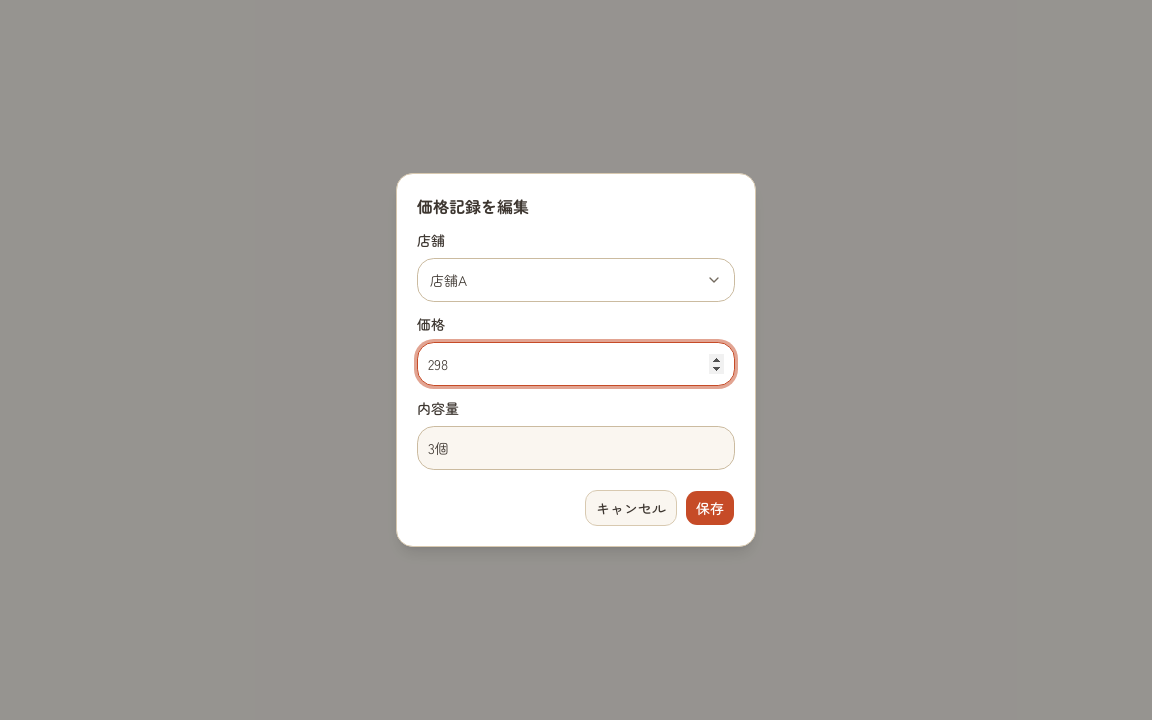
Scenario: PriceRecordEditDialog › PRED-06: StoreNotFoundError では店舗未検出メッセージを表示し、店舗一覧を再取得する
Check: the text "店舗A" is shown, box x1=430 y1=270 x2=467 y2=290
Click the button "保存" at (710, 508), box x1=685 y1=490 x2=735 y2=526
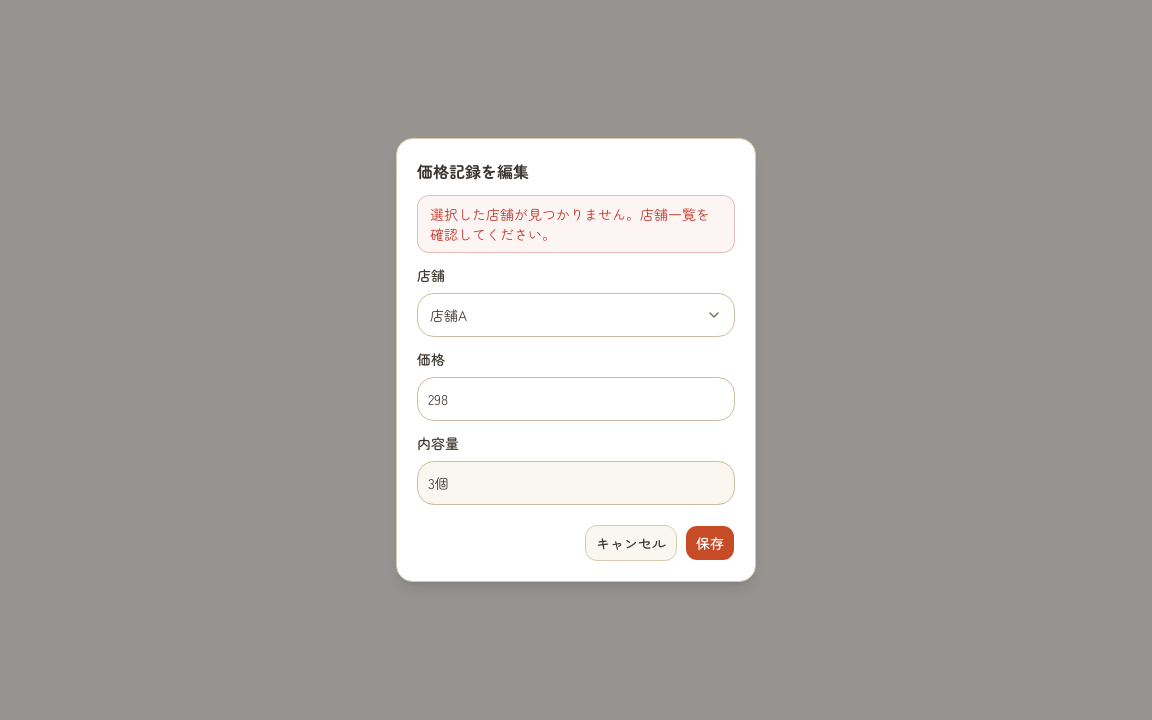
Check: the text "選択した店舗が見つかりません。店舗一覧を確認してください。" is shown, box x1=417 y1=195 x2=735 y2=253
